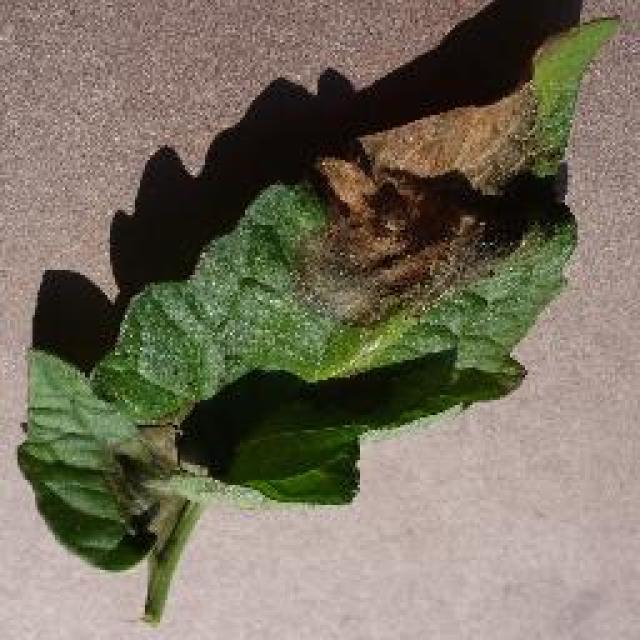Tomato___Late_blight: (15, 11, 624, 625)
